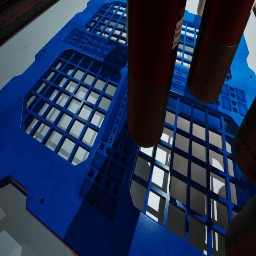0: (197, 0, 206, 18), (126, 0, 128, 43)
NitrogenTank ,: (127, 0, 186, 148), (187, 0, 256, 104), (232, 96, 256, 186), (225, 193, 256, 256)
